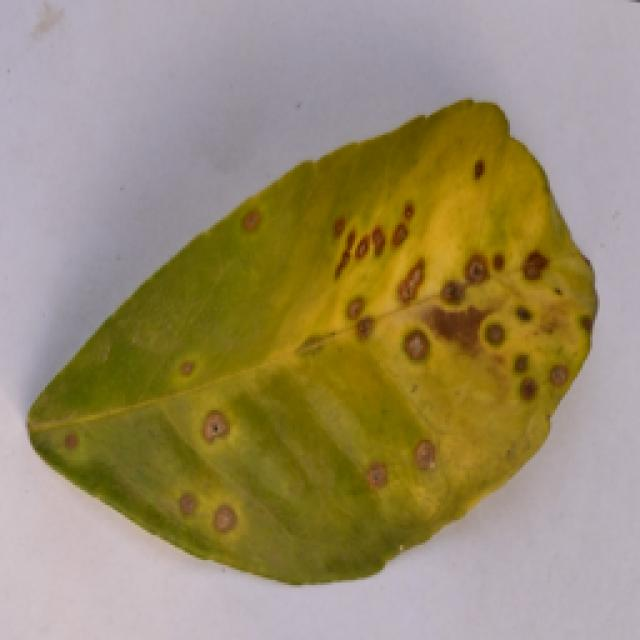canker: (48, 136, 588, 585)
